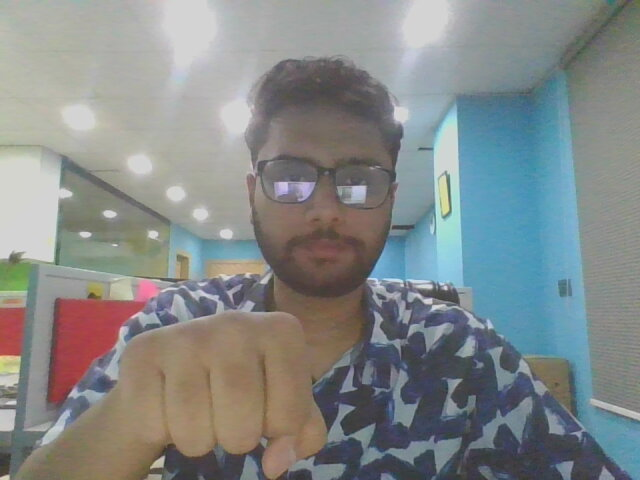yes: (118, 312, 330, 477)
